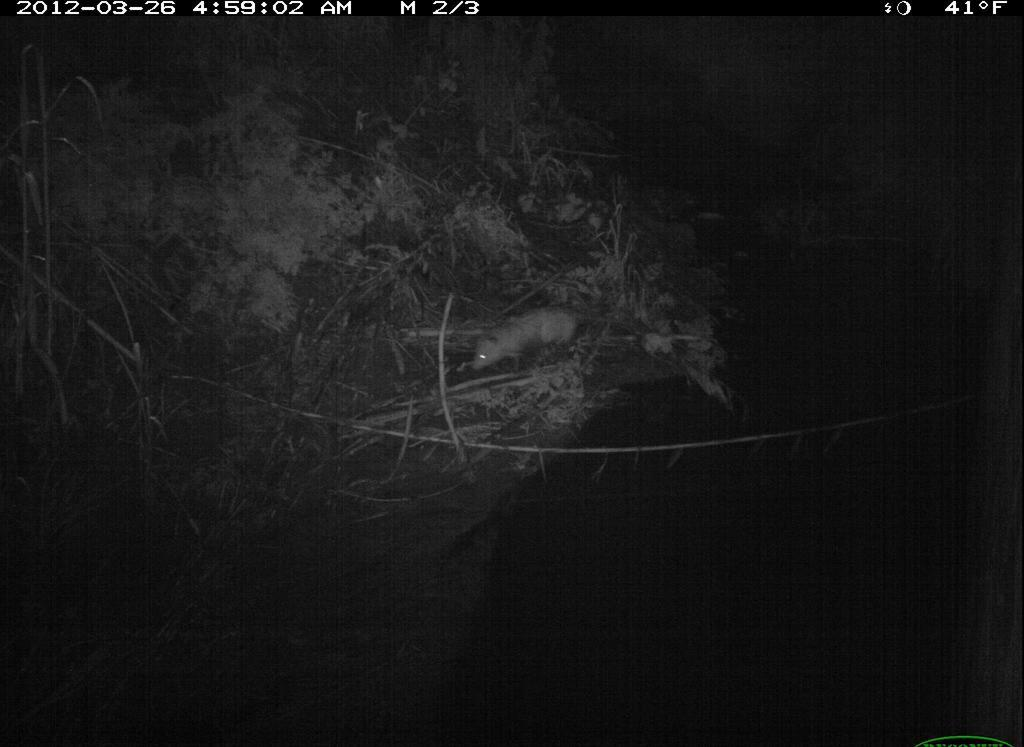opossum: (464, 290, 615, 393)
